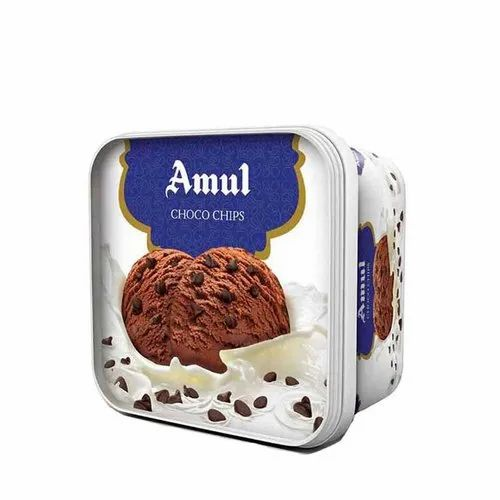Amul: (158, 156, 258, 205)
